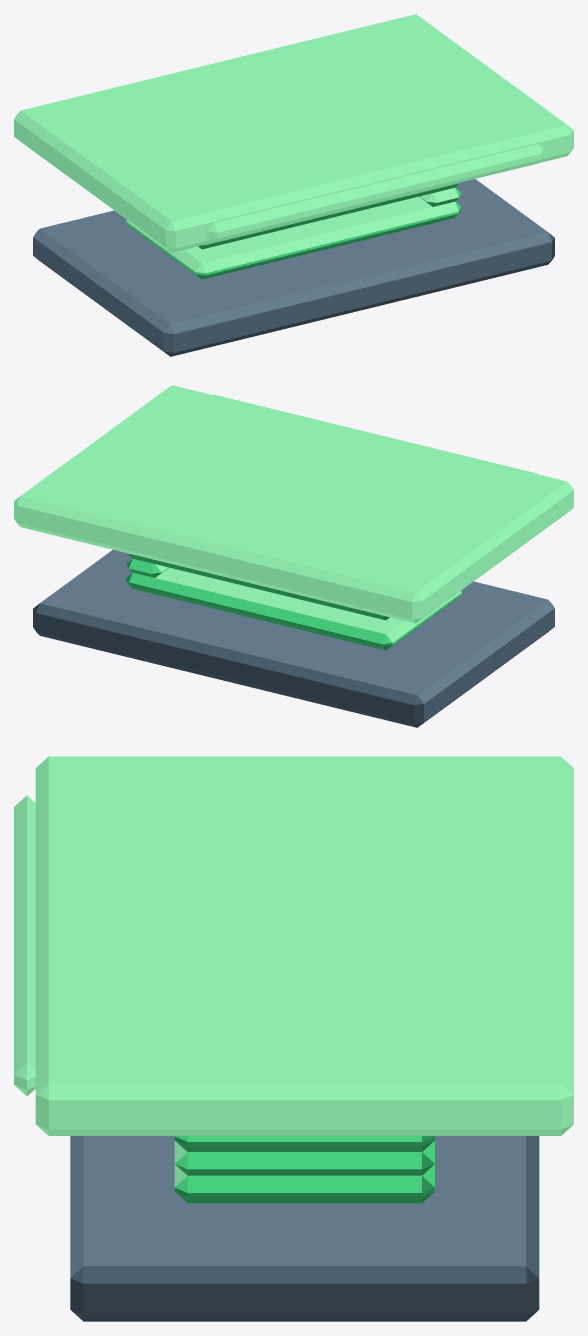
The model's file is Spring_Hot.gltf.
3 renders of one model, top to bottom at view 1: azimuth 30°, elevation 25°; view 2: azimuth 150°, elevation 25°; view 3: azimuth 270°, elevation 25°, orthographic. The views are drawn at different scales.
Parts seen in each view (by area): view 1: Spring_Hot_baked; view 2: Spring_Hot_baked; view 3: Spring_Hot_baked.
Part boxes in pixels (x1=…): Spring_Hot_baked: x1=14, y1=14, x2=573, y2=356; Spring_Hot_baked: x1=14, y1=385, x2=573, y2=727; Spring_Hot_baked: x1=14, y1=756, x2=573, y2=1321.
Size of the model in its own units: 0.92 by 0.3125 by 0.645.
